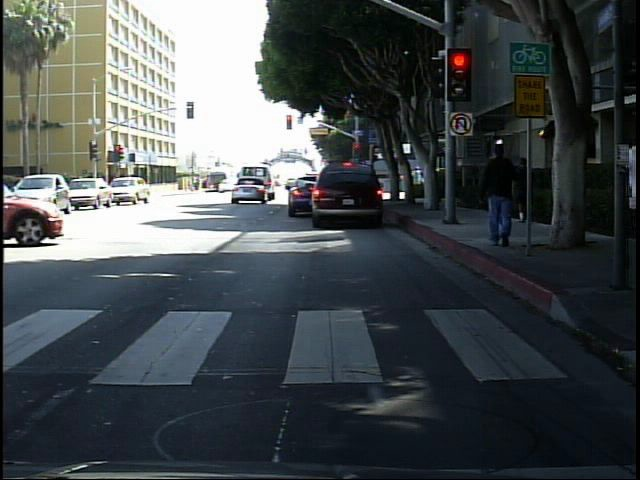person: (477, 129, 524, 256), (516, 147, 541, 232)
